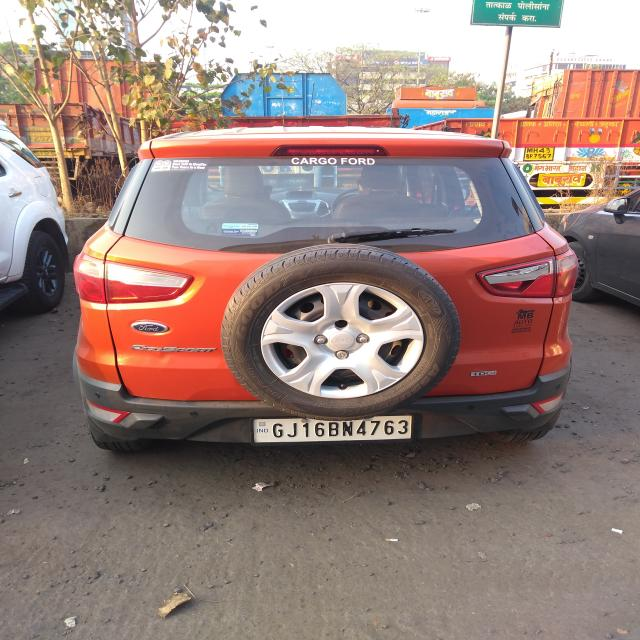Number-Plate: (257, 418, 413, 442)
